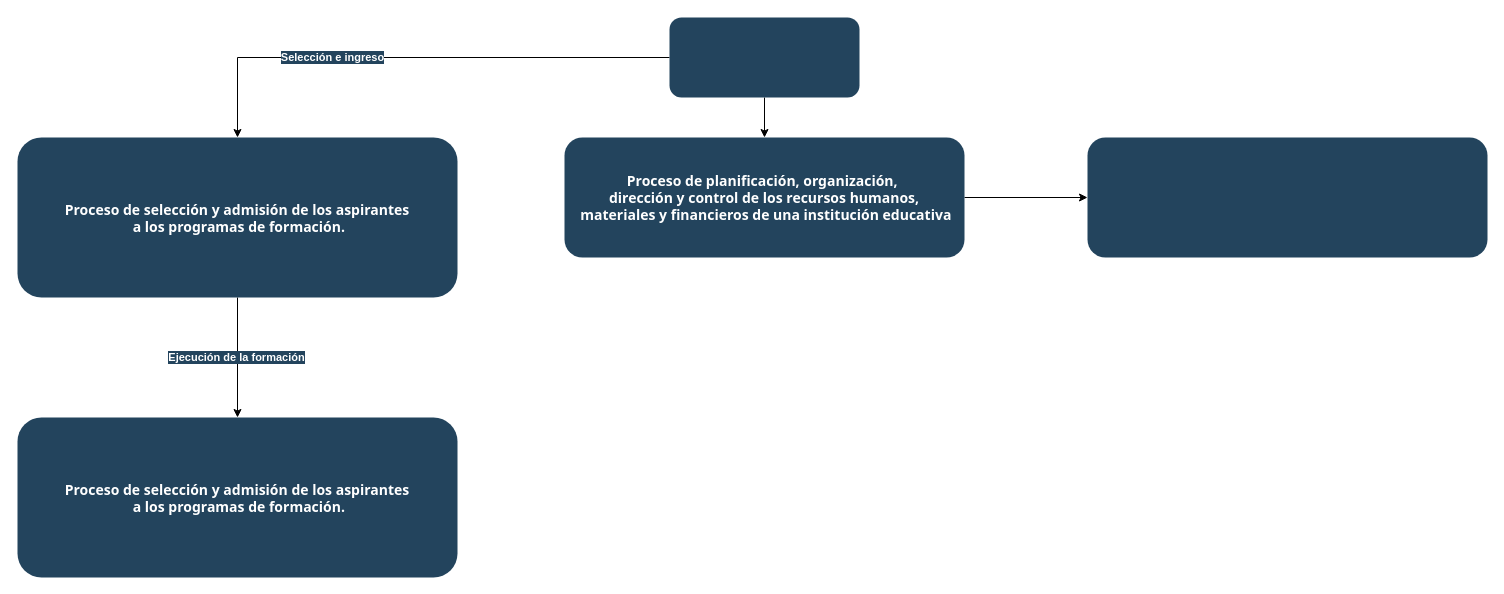
Some shapes in this 1504 by 594 pixel diagram are drawn without their labels. The centre of each missing label's shape, as x and y in pixels:
"administración educativa" belongs at (x=764, y=57).
"Garantizar el desarrollo eficiente y eficaz de los procesos educativos." belongs at (x=1287, y=197).
